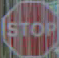Stop: (4, 1, 55, 48)
